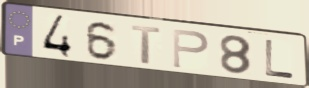4: (39, 13, 76, 60)
6: (85, 20, 120, 62)
8: (218, 34, 254, 76)
L: (263, 38, 297, 81)
P: (171, 27, 211, 71)
T: (129, 24, 164, 66)
